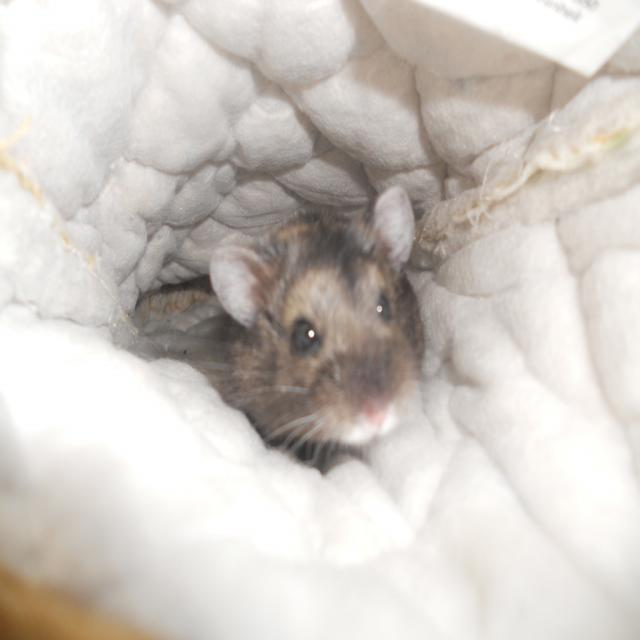rat: (130, 181, 427, 450)
